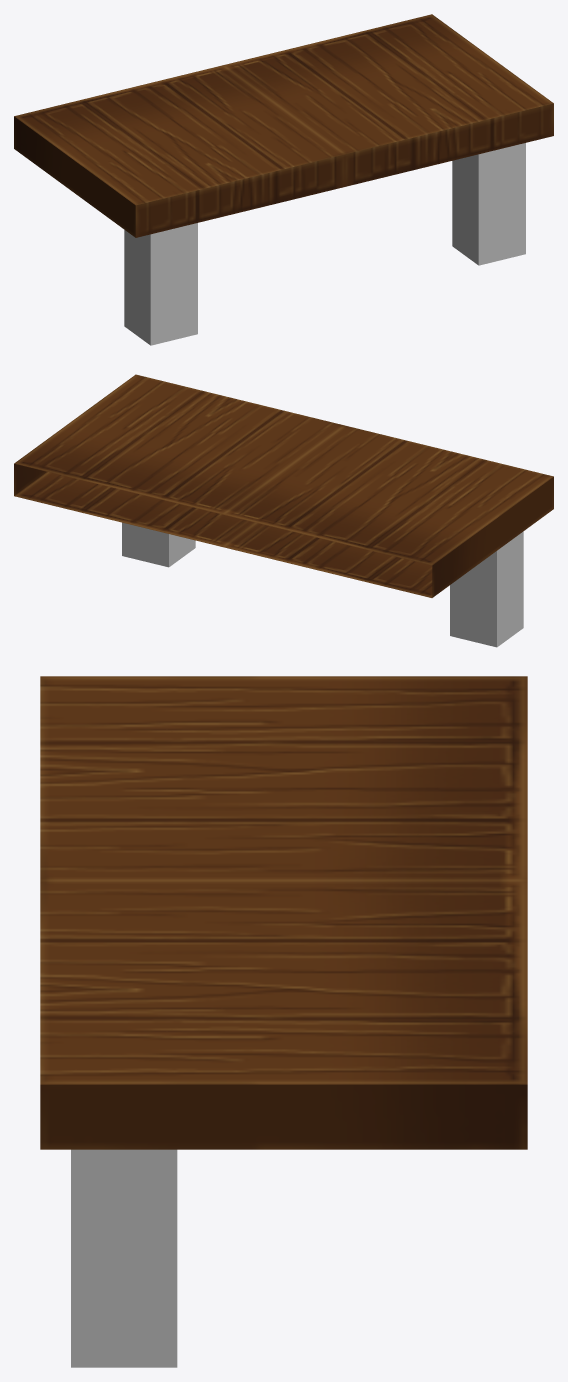
The model's file is stairs.fbx.
The picture shows the model from 3 angles, top to bottom: view 1: azimuth 30°, elevation 25°; view 2: azimuth 150°, elevation 25°; view 3: azimuth 270°, elevation 25°; orthographic projection. The views are drawn at different scales.
Parts seen in each view (by area): view 1: polySurface78; view 2: polySurface78; view 3: polySurface78.
Boxes of the visible parts, bbox=[...] form: polySurface78: bbox=[14, 14, 553, 345]; polySurface78: bbox=[14, 374, 553, 647]; polySurface78: bbox=[40, 676, 527, 1367].
Size of the model in its own units: 5.94 by 2.06 by 3.
